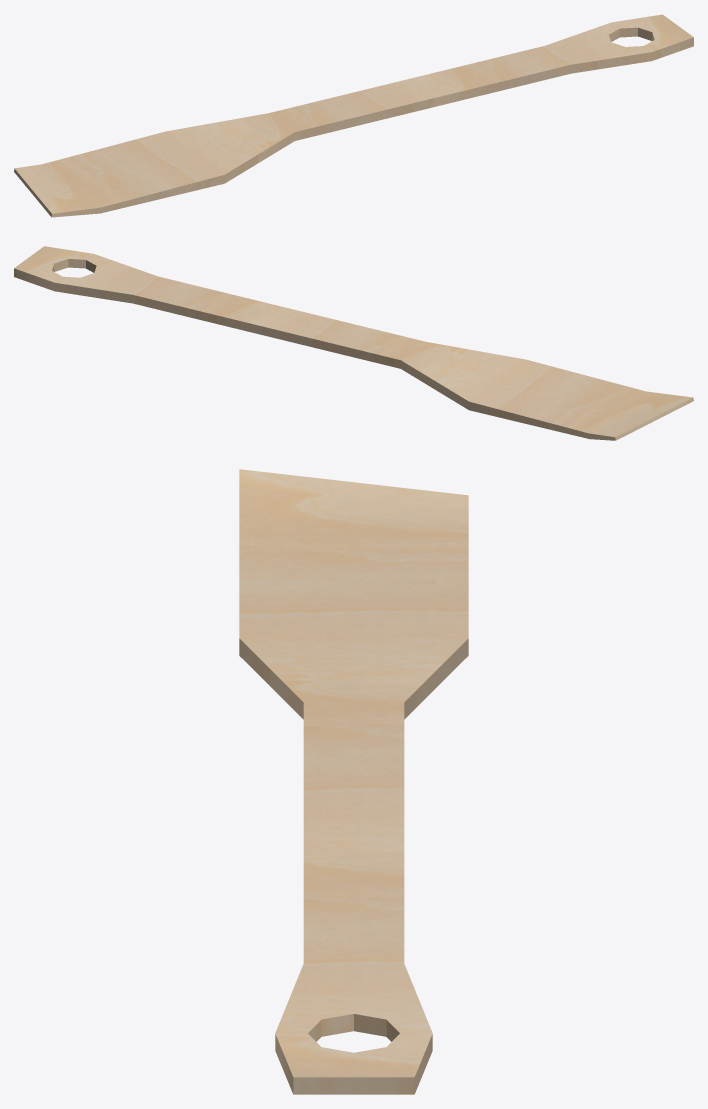
The model's file is spatula.fbx.
3 renders of one model, top to bottom at view 1: azimuth 30°, elevation 25°; view 2: azimuth 150°, elevation 25°; view 3: azimuth 270°, elevation 25°, orthographic. The views are drawn at different scales.
Parts seen in each view (by area): view 1: pCube11; view 2: pCube11; view 3: pCube11.
Part boxes in pixels (left/top/right/bottom): pCube11: left=14, top=14, right=693, bottom=217; pCube11: left=14, top=246, right=693, bottom=440; pCube11: left=239, top=469, right=468, bottom=1094.
Bounding box in the file's own units: 0.8931 × 0.0238 × 0.1394.
Materials: 1 (1 with a texture image).
